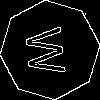W: (25, 25, 75, 77)
